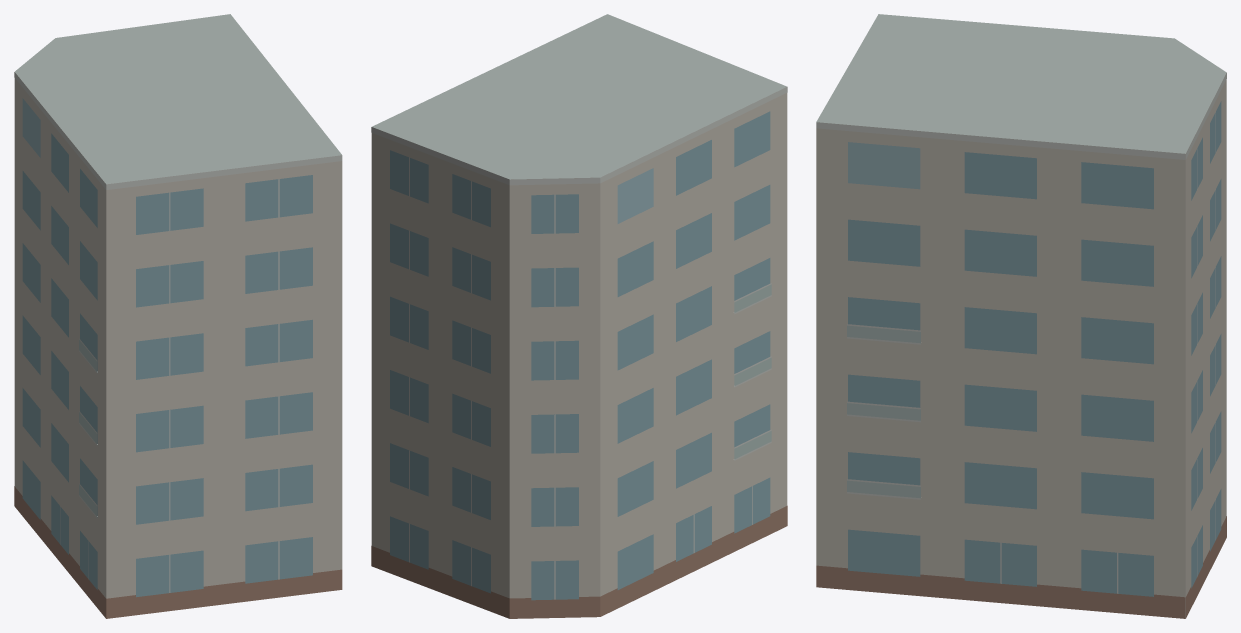
Rendered from survey-upis-32878586.glb.
3 views of the same model, side by side, from view 1: azimuth 30°, elevation 25°; view 2: azimuth 150°, elevation 25°; view 3: azimuth 270°, elevation 25° (orthographic). The views are drawn at different scales.
Parts seen in each view (by area): view 1: survey-upis-32878586.tmp; view 2: survey-upis-32878586.tmp; view 3: survey-upis-32878586.tmp.
Part boxes in pixels (bbox=[...]): survey-upis-32878586.tmp: bbox=[14, 14, 342, 618]; survey-upis-32878586.tmp: bbox=[371, 14, 787, 618]; survey-upis-32878586.tmp: bbox=[816, 14, 1226, 618].
Bounding box in the file's own units: 11.81 × 18.3 × 14.66.
